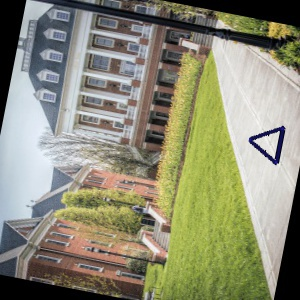triangle: (246, 125, 288, 167)
